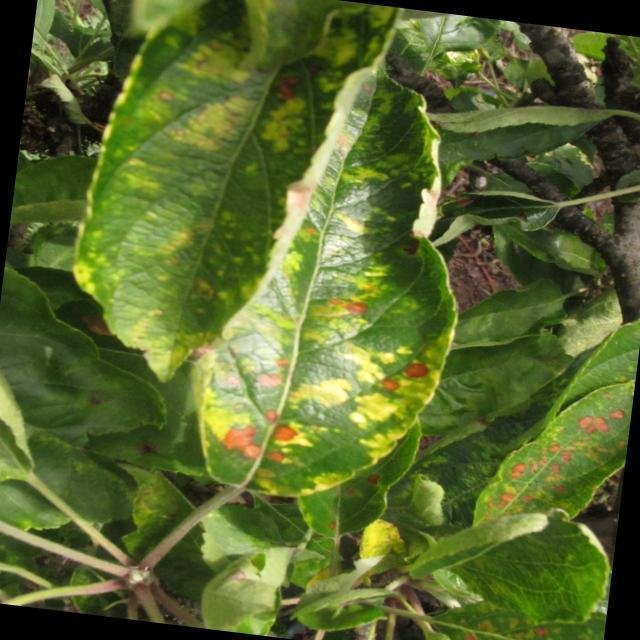Mosaic Virus: (200, 59, 482, 528), (86, 0, 289, 373)
